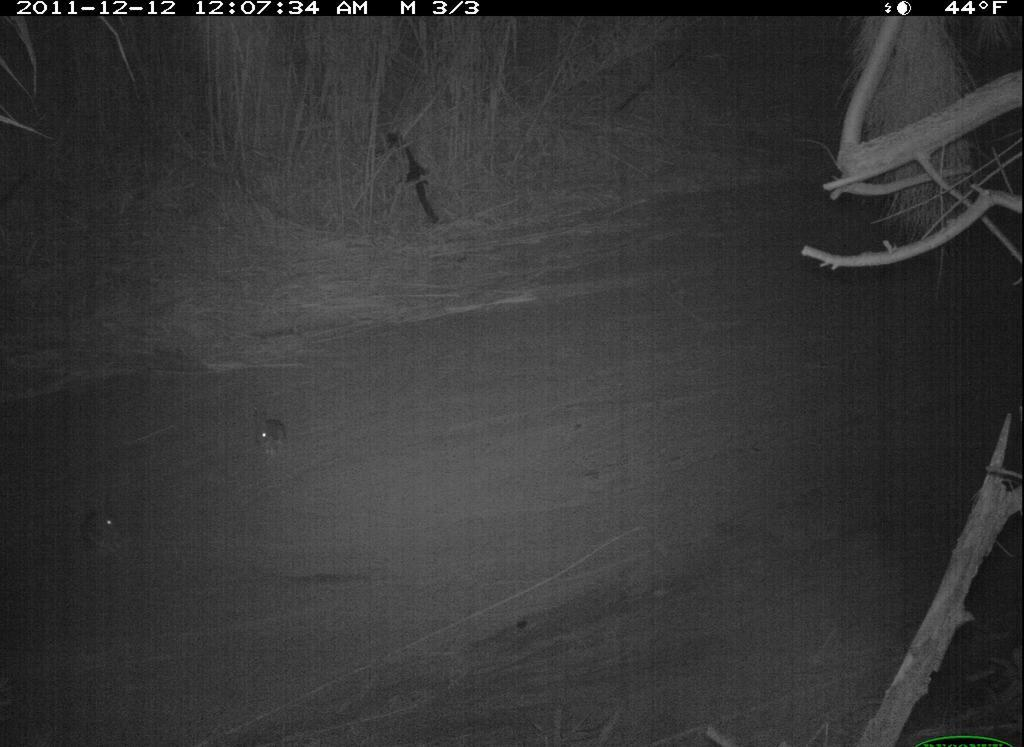rabbit: (239, 410, 299, 464), (80, 502, 129, 555)
